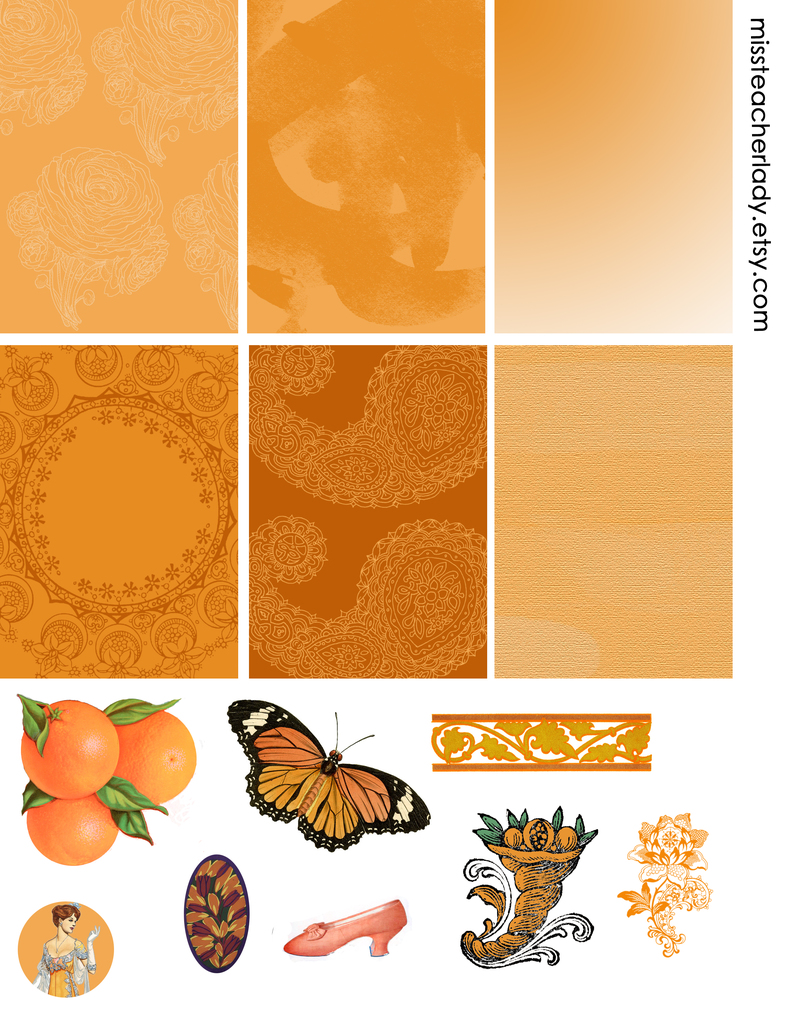Ripe: (114, 708, 203, 804), (19, 705, 112, 792), (22, 801, 120, 870)
